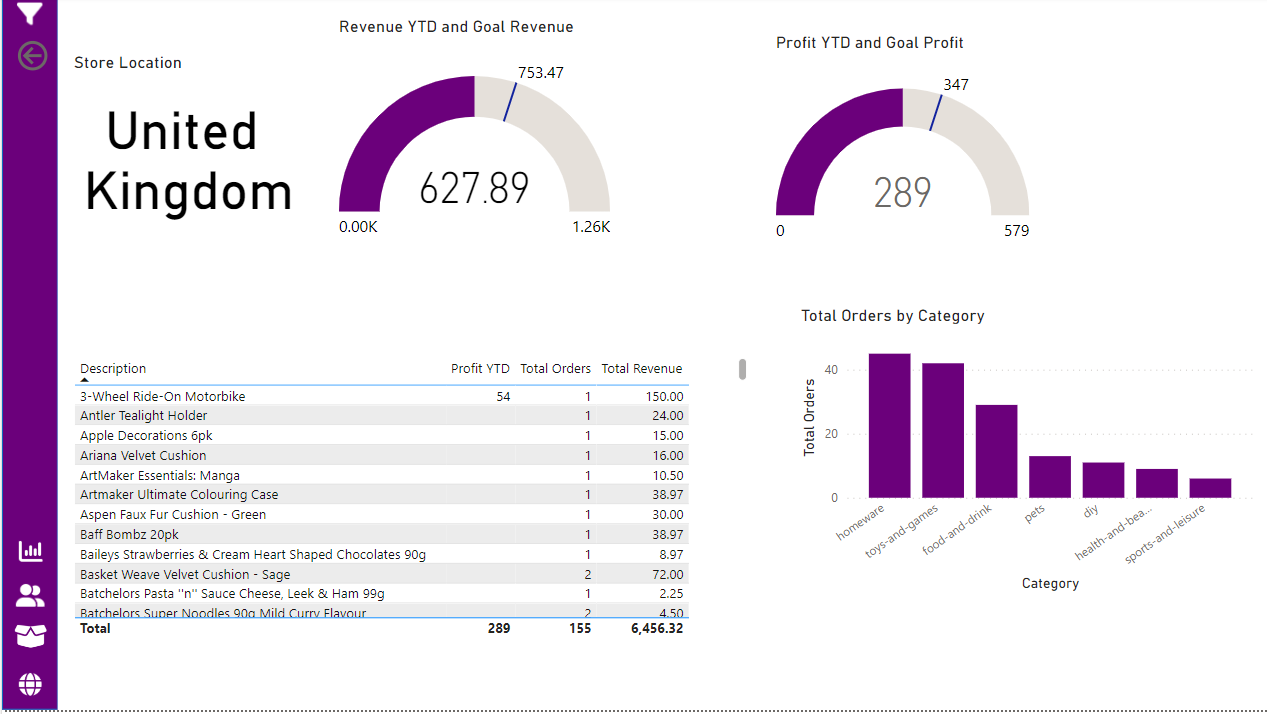

This screenshot's page, from the dashboard's own definition file:
{"tool":"powerbi","page":{"name":"Stores Drillthrough","canvas":[1280,720],"ordinal":4},"visuals":[{"type":"actionButton","box":[0,0,100,40],"z":0},{"type":"tableEx","fields":{"Values":["Products.Description","Measures Table.Profit YTD","Measures Table.Total Orders","Measures Table.Total Revenue"]},"box":[855.8,34.3,424.2,291.8],"z":1},{"type":"columnChart","fields":{"Category":["Products.Category"],"Y":["Measures Table.Total Orders"]},"box":[856,326,424,258],"z":2},{"type":"gauge","fields":{"Y":["Measures Table.Profit YTD"],"TargetValue":["Measures Table.Target YOY growth"]},"box":[289.1,85.4,227.4,300.5],"z":3},{"type":"textbox","box":[100,400,227,184],"z":4},{"type":"gauge","fields":{"Y":["Measures Table.Revenue YTD"],"TargetValue":["Measures Table.Goal Revenue"]},"box":[541.2,71,227.4,300.5],"z":5},{"type":"card","title":"Store Location","fields":{"Values":["Min(Stores.Country)"]},"box":[0,95.7,242.8,184.2],"z":6}]}

Visuals, with their boxes on the page's 1280x720 design canvas (x1, y1, x2, y2). These are canvas units, not pixel positions in the 1267x714 screenshot, which may show the page scaled, cropped or inside an application window:
actionButton: [0,0,100,40]
tableEx - Products.Description x Measures Table.Profit YTD: [856,34,1280,326]
columnChart - Products.Category x Measures Table.Total Orders: [856,326,1280,584]
gauge - Measures Table.Profit YTD x Measures Table.Target YOY growth: [289,85,516,386]
textbox: [100,400,327,584]
gauge - Measures Table.Revenue YTD x Measures Table.Goal Revenue: [541,71,769,372]
"Store Location" card: [0,96,243,280]
